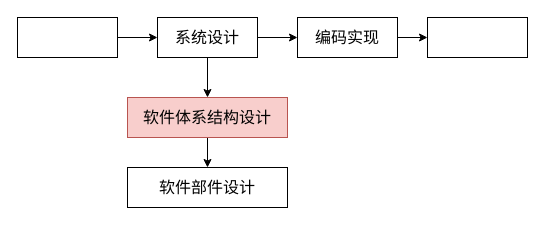
The diagram is 545 pixels wide and 225 high, and some of its shapes have lost their labels. The centre of each missing label's shape, as x and y in pixels:
"系统测试" goes at point 477,37.
"需求分析" goes at point 67,37.
